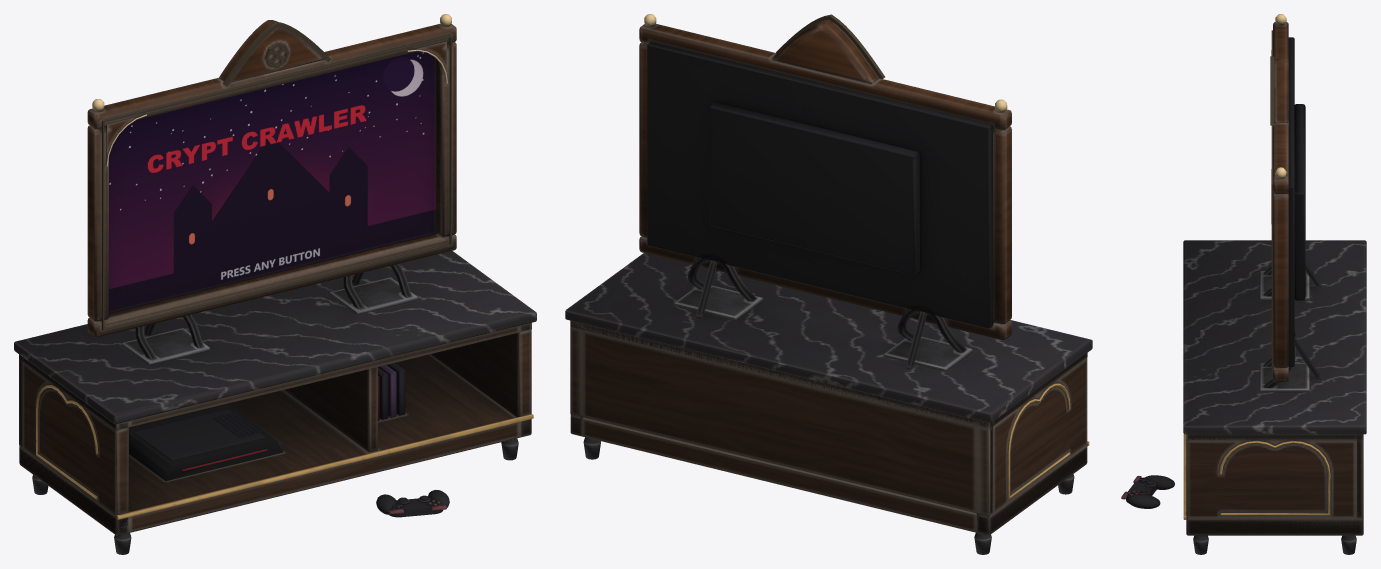
File: TVConsole.fbx
3 renders of one model, left to right at view 1: azimuth 30°, elevation 25°; view 2: azimuth 150°, elevation 25°; view 3: azimuth 270°, elevation 25°, orthographic. The views are drawn at different scales.
Parts seen in each view (by area): view 1: TVConsole_Main, TVConsole_Glow; view 2: TVConsole_Main; view 3: TVConsole_Main.
Boxes of the visible parts, <box> form: TVConsole_Main: <box>14,14,536,554</box>; TVConsole_Glow: <box>109,51,436,471</box>; TVConsole_Main: <box>565,14,1092,554</box>; TVConsole_Main: <box>1121,14,1366,554</box>.
Size of the model in its own units: 448 by 460 by 249.
